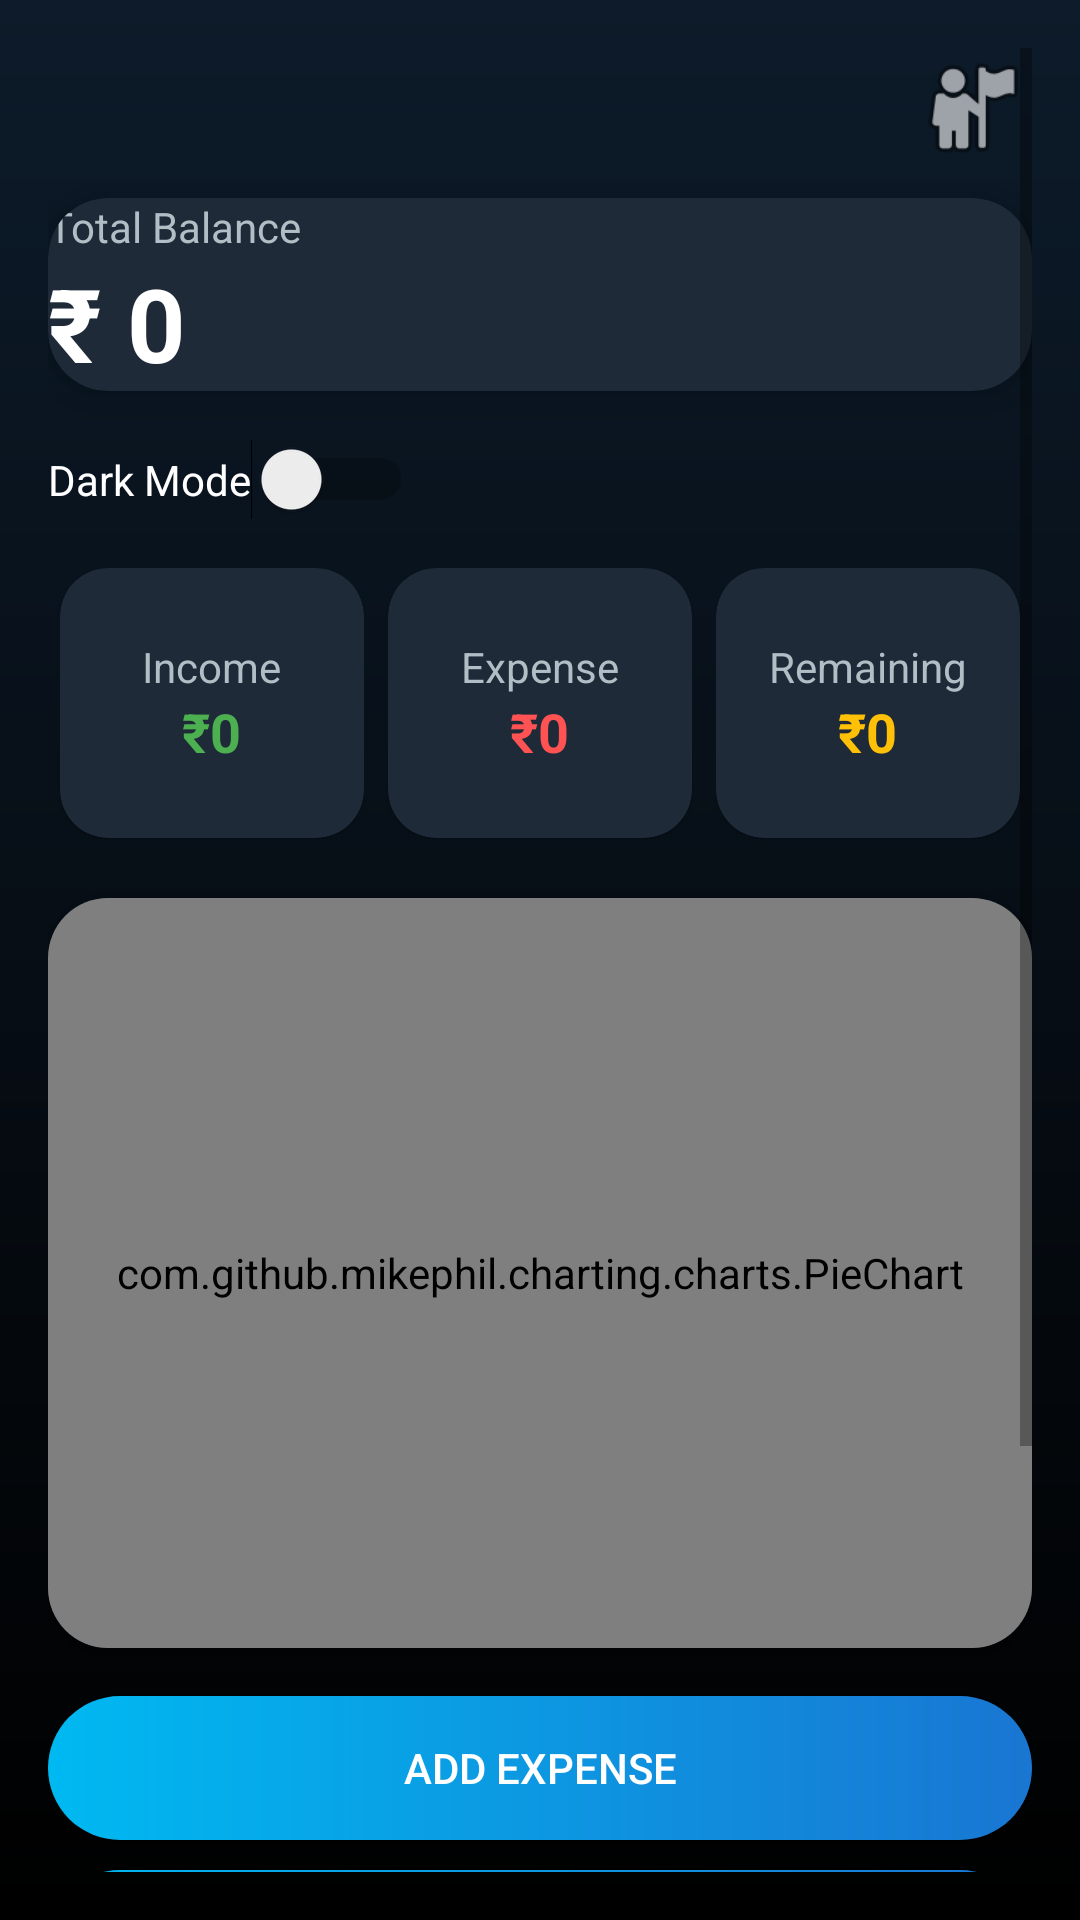

Icon bounding boxes for this 1080 × 1920 phone screenshot, format [left=x1, top=y1, right=x2, bottom=y2]:
myplaces: [left=932, top=67, right=1015, bottom=149]
